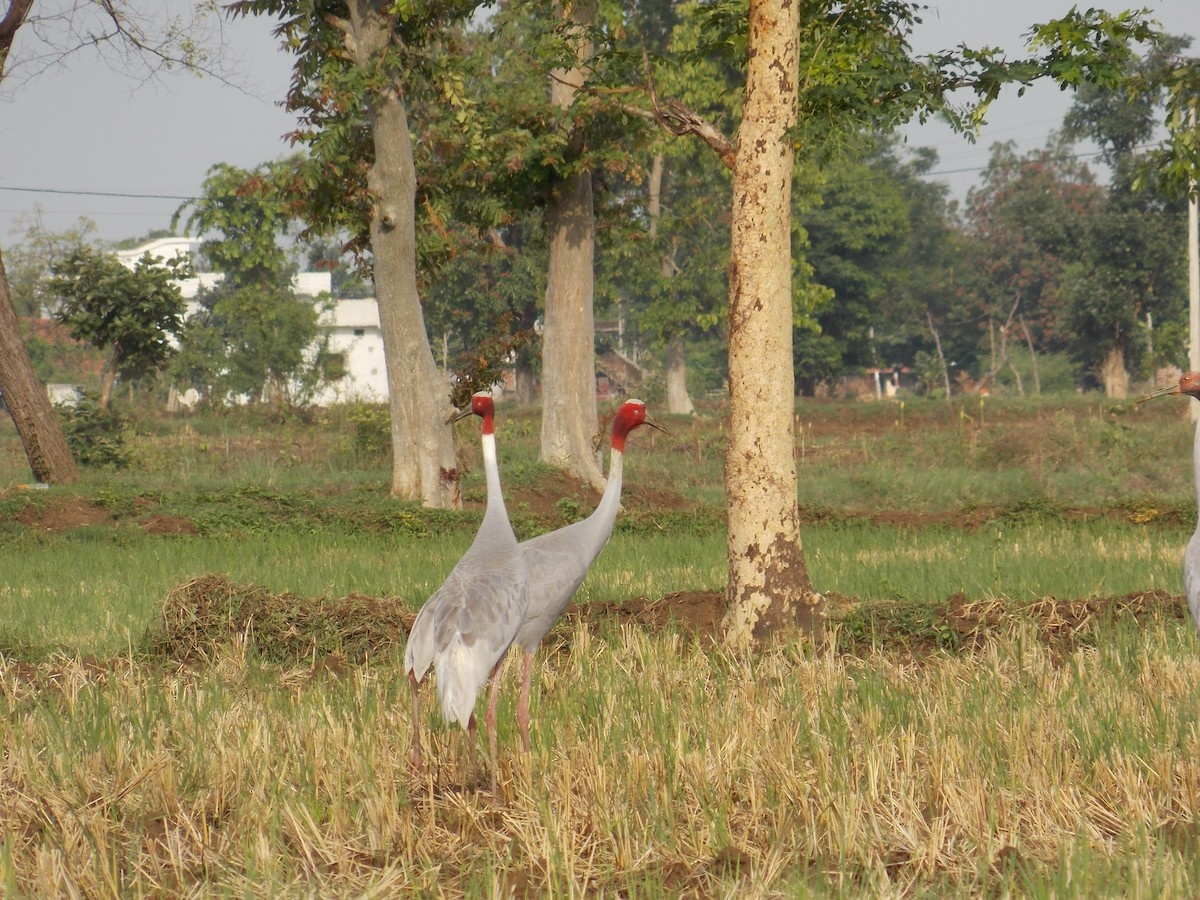crane: (515, 391, 682, 717), (438, 381, 529, 718)
